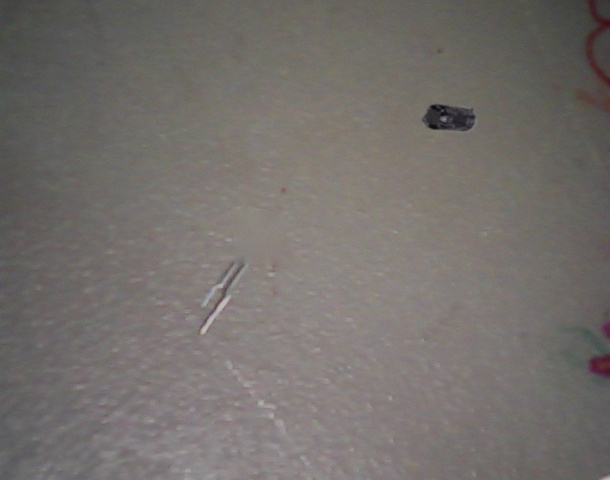capacitor: (422, 104, 476, 132)
